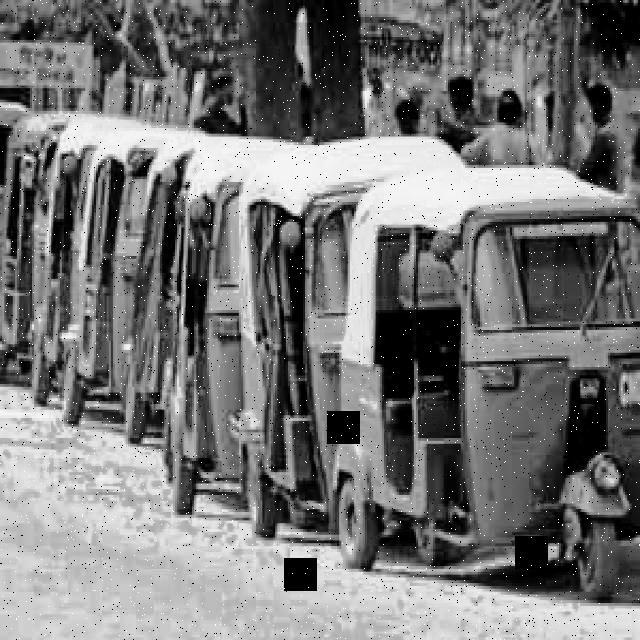Auto-Rickshaw: (337, 157, 640, 601), (228, 134, 478, 564), (167, 125, 244, 526)
